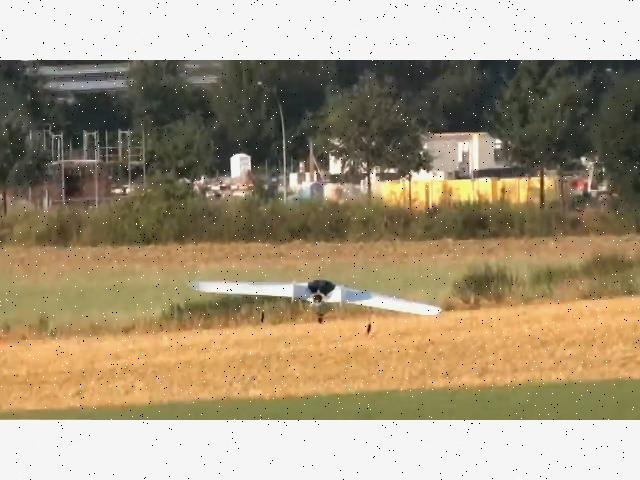Anti-Drone: (181, 253, 455, 344)
